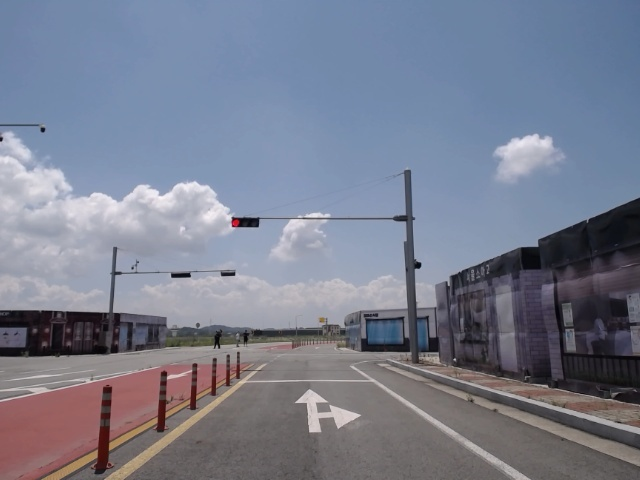red_3: (230, 216, 260, 227)
